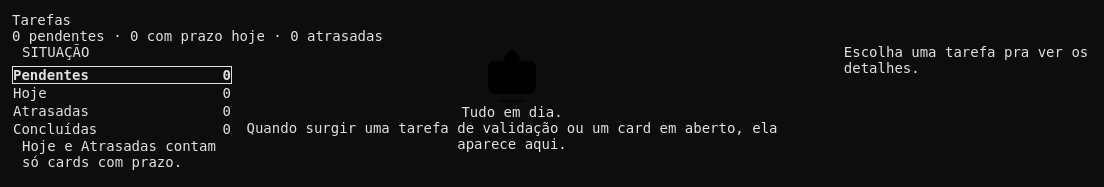
it: TasksScreen › renders the empty state copy for each filter
The width and height of the screenshot is (1104, 187).
Expected: the text "Tudo em dia." is shown, left=461, top=104, right=563, bottom=120
Expected: the text "Quando surgir uma tarefa de validação ou um card em aberto, ela aparece aqui." is shown, left=232, top=120, right=792, bottom=152
Click the button "Hoje 0" at (122, 93), box left=12, top=84, right=232, bottom=102
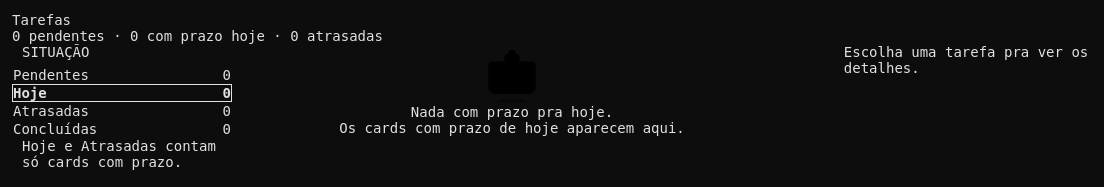
Now the text "Nada com prazo pra hoje." is shown, box left=411, top=104, right=613, bottom=120
Now the text "Os cards com prazo de hoje aparecem aqui." is shown, box left=339, top=120, right=685, bottom=136
Click the button "Atrasadas 0" at (122, 111), box left=12, top=102, right=232, bottom=120
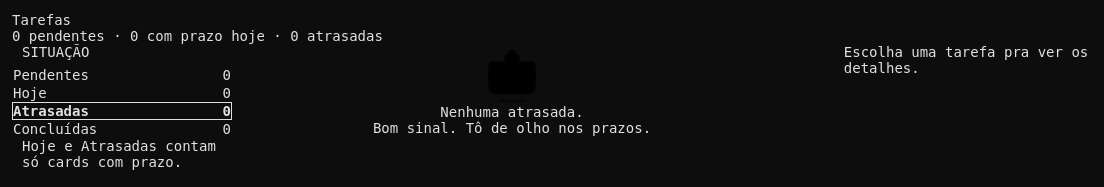
Now the text "Nenhuma atrasada." is shown, box left=440, top=104, right=584, bottom=120
Now the text "Bom sinal. Tô de olho nos prazos." is shown, box left=373, top=120, right=651, bottom=136
Click the button "Concluídas 0" at (122, 129), box left=12, top=120, right=232, bottom=138
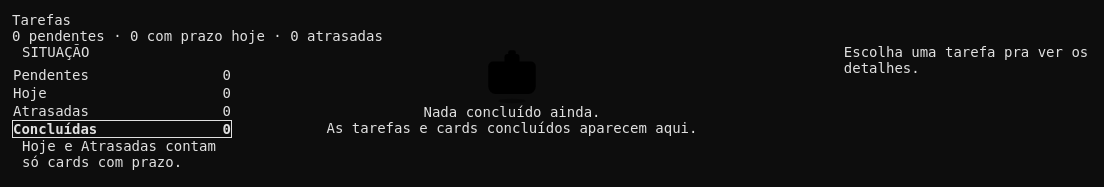
Now the text "Nada concluído ainda." is shown, box left=424, top=104, right=600, bottom=120
Now the text "As tarefas e cards concluídos aparecem aqui." is shown, box left=327, top=120, right=698, bottom=136
